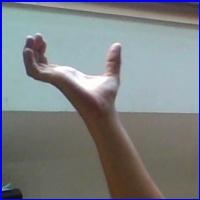B: (20, 28, 136, 118)
